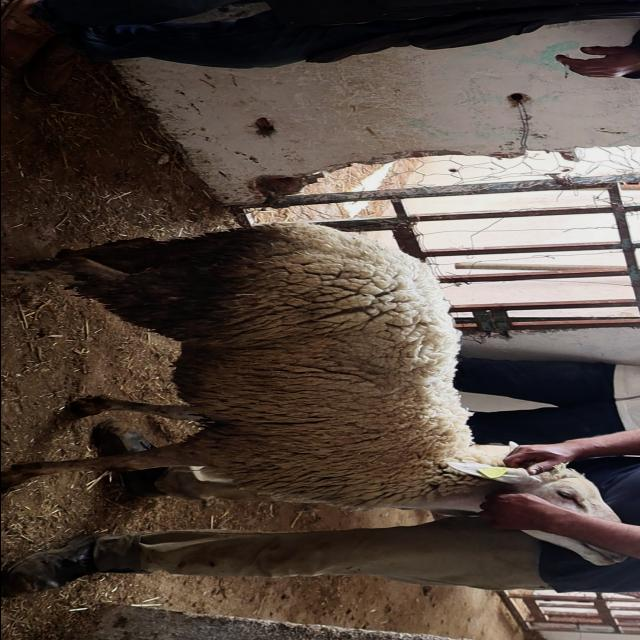Score_3: (1, 222, 617, 520)
